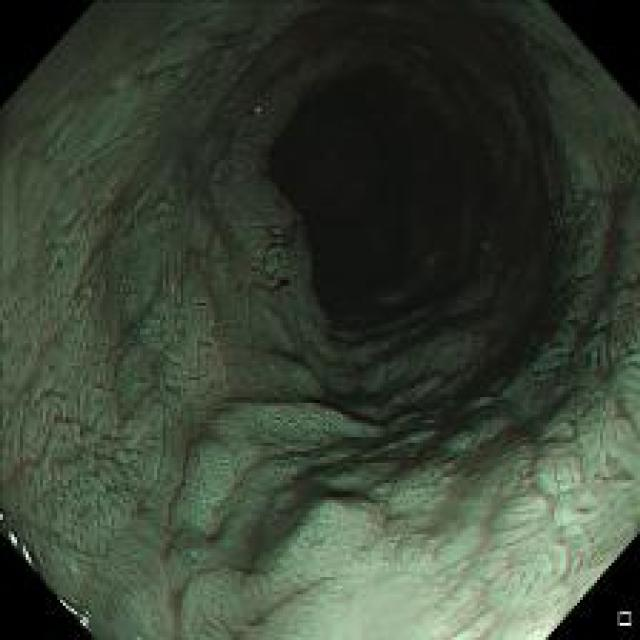blur: (276, 481, 559, 619)
color misalignment: (58, 596, 91, 625), (8, 532, 34, 562)
contrast: (265, 70, 498, 379)
specularity: (58, 596, 91, 625), (20, 545, 34, 561), (8, 532, 18, 548), (254, 105, 260, 114)
